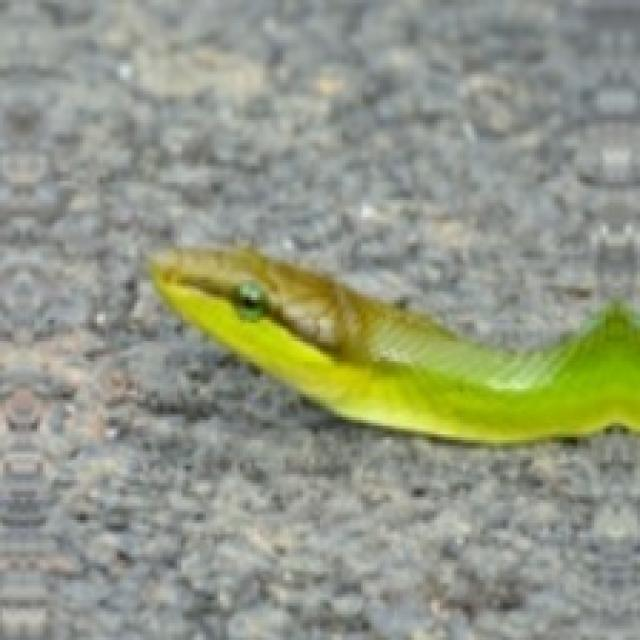red-tailed green ratsnake: (149, 246, 637, 443)
